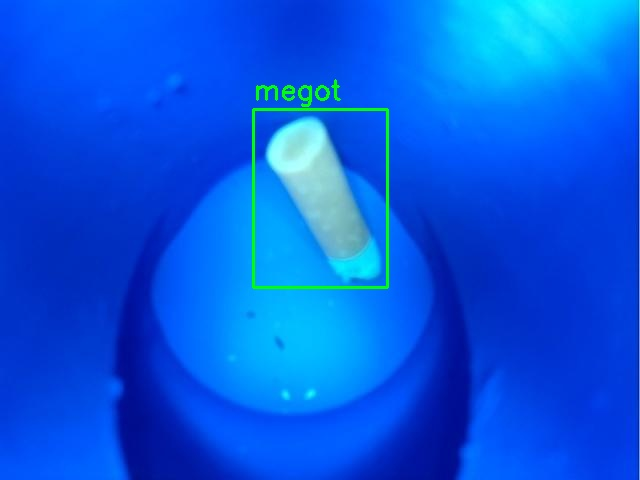megot: (253, 109, 387, 287)
